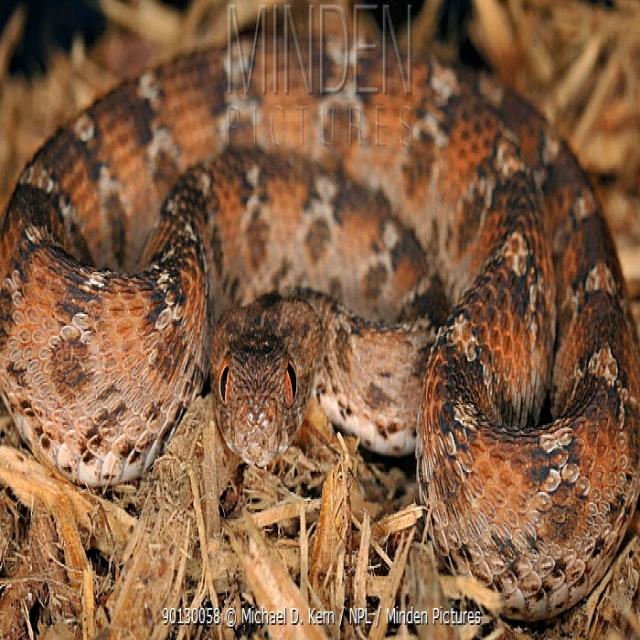Snake: (0, 12, 639, 623)
